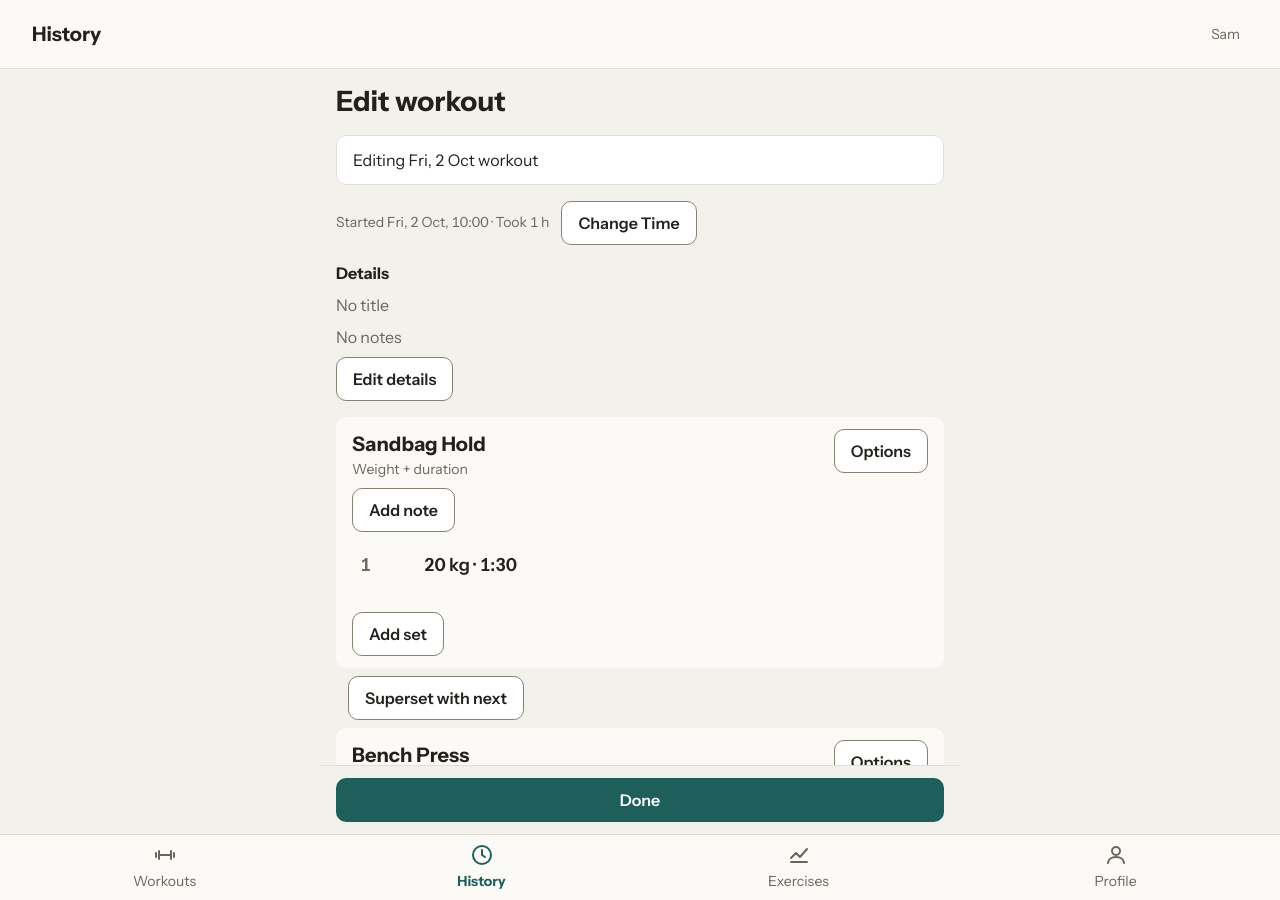
Scenario: 18.1 AC20 — the edit screen's set sheet › hold: Weight + unit and Minutes / Seconds
Click the button "1 20 kg · 1:30": (470, 565) [352,544,928,588]
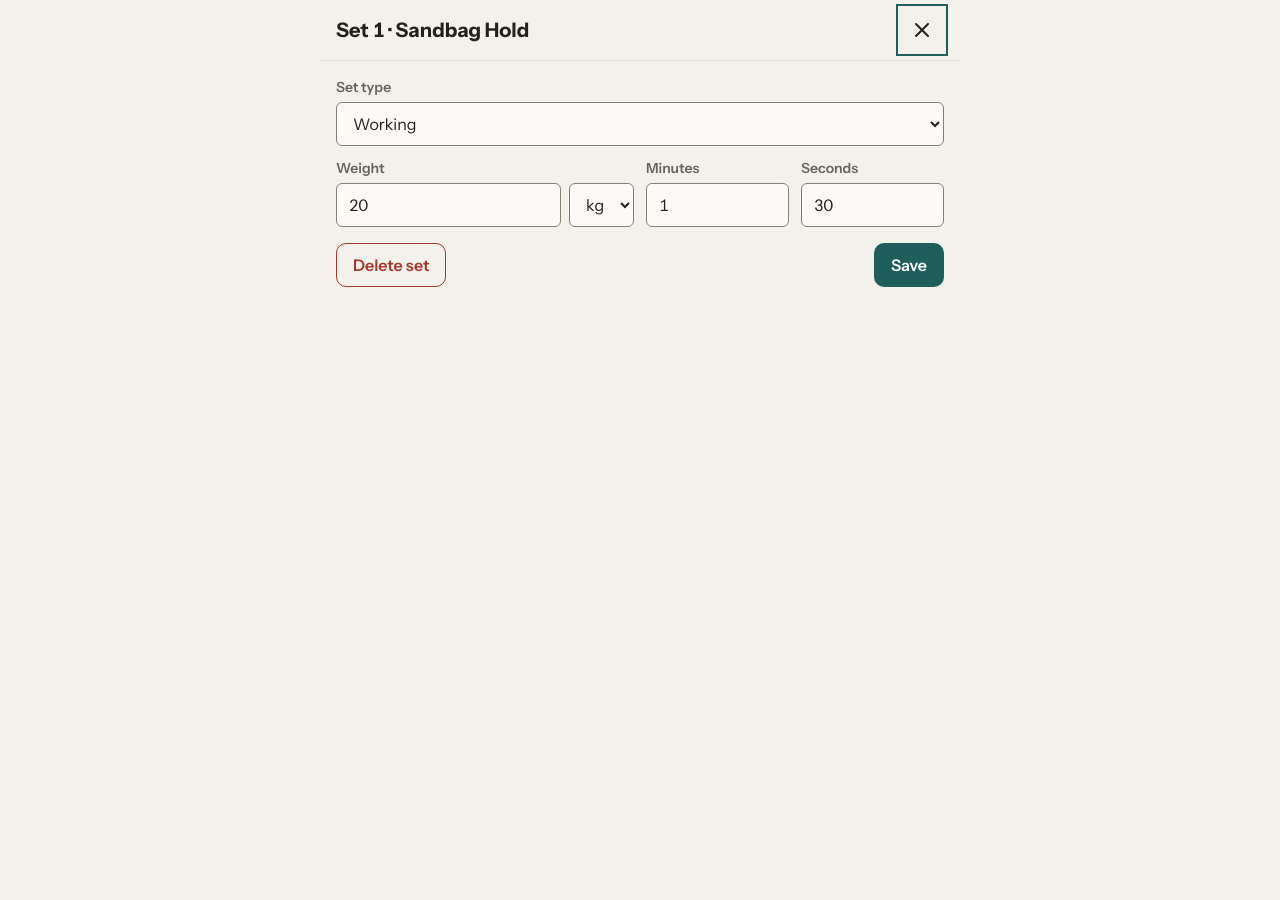
expect the dropdown named "Weight unit" shows "kg": met, box [569,183,634,227]
expect the field labelled "Minutes" holds "1": met, box [646,183,789,227]
expect the field labelled "Seconds" holds "30": met, box [801,183,944,227]
